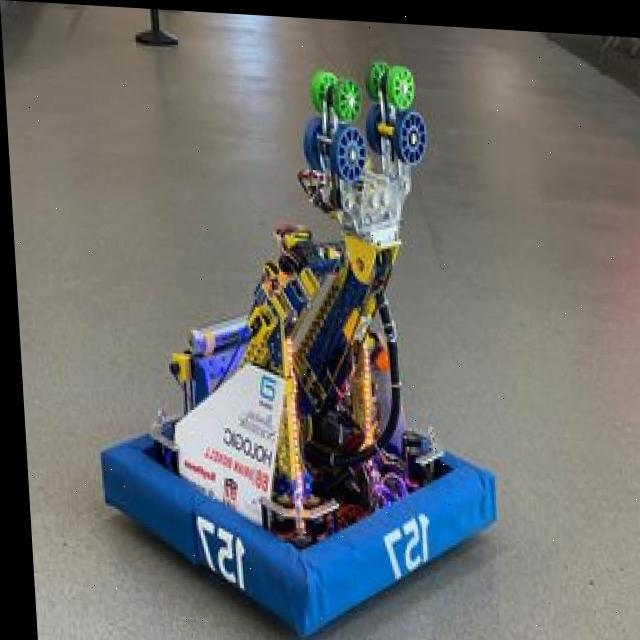robot: (37, 40, 552, 638)
